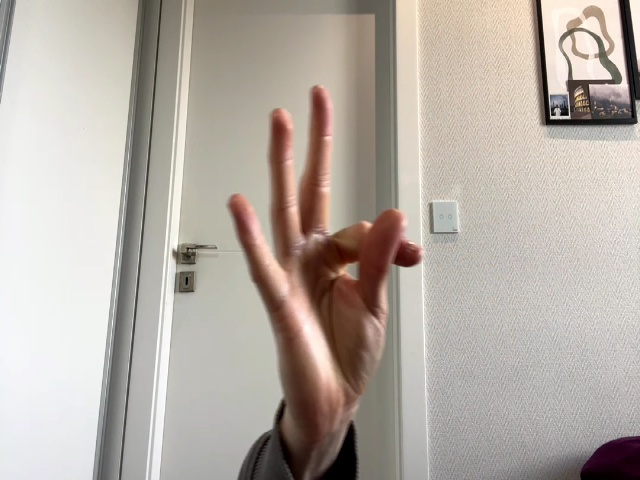T: (226, 86, 421, 418)
